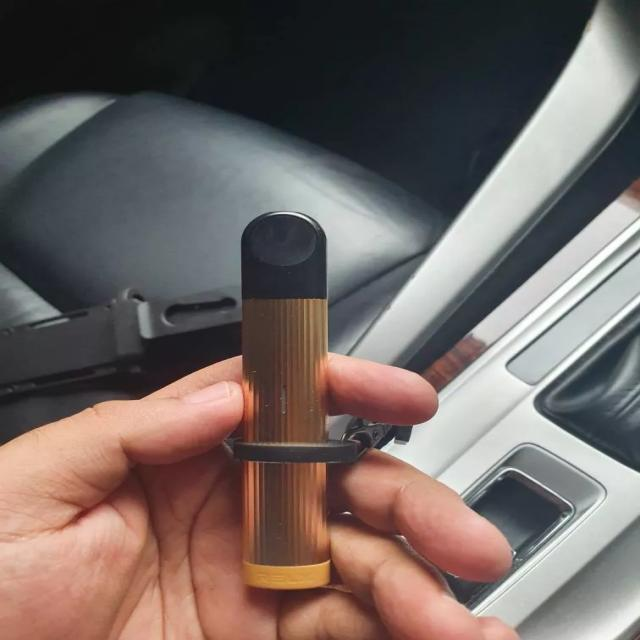Hazard: (239, 208, 330, 603)
